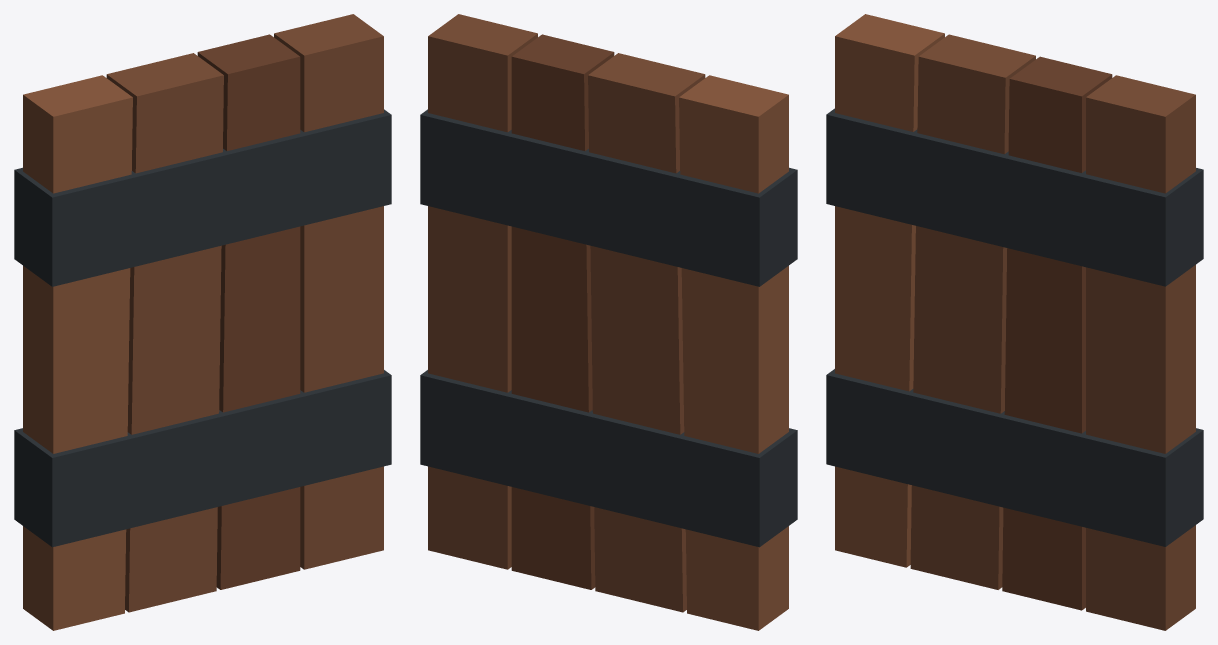
The model's file is WindowPart_01R.fbx.
3 renders of one model, left to right at view 1: azimuth 30°, elevation 25°; view 2: azimuth 150°, elevation 25°; view 3: azimuth 330°, elevation 25°, orthographic.
Visible parts, largest first — view 1: WindowPart_01R; view 2: WindowPart_01R; view 3: WindowPart_01R.
Boxes of the visible parts, x1,y1,x2,y2 form: WindowPart_01R: [14, 14, 391, 630]; WindowPart_01R: [420, 14, 797, 630]; WindowPart_01R: [826, 14, 1203, 630].
Bounding box in the file's own units: 48.19 × 69.76 × 9.35.
